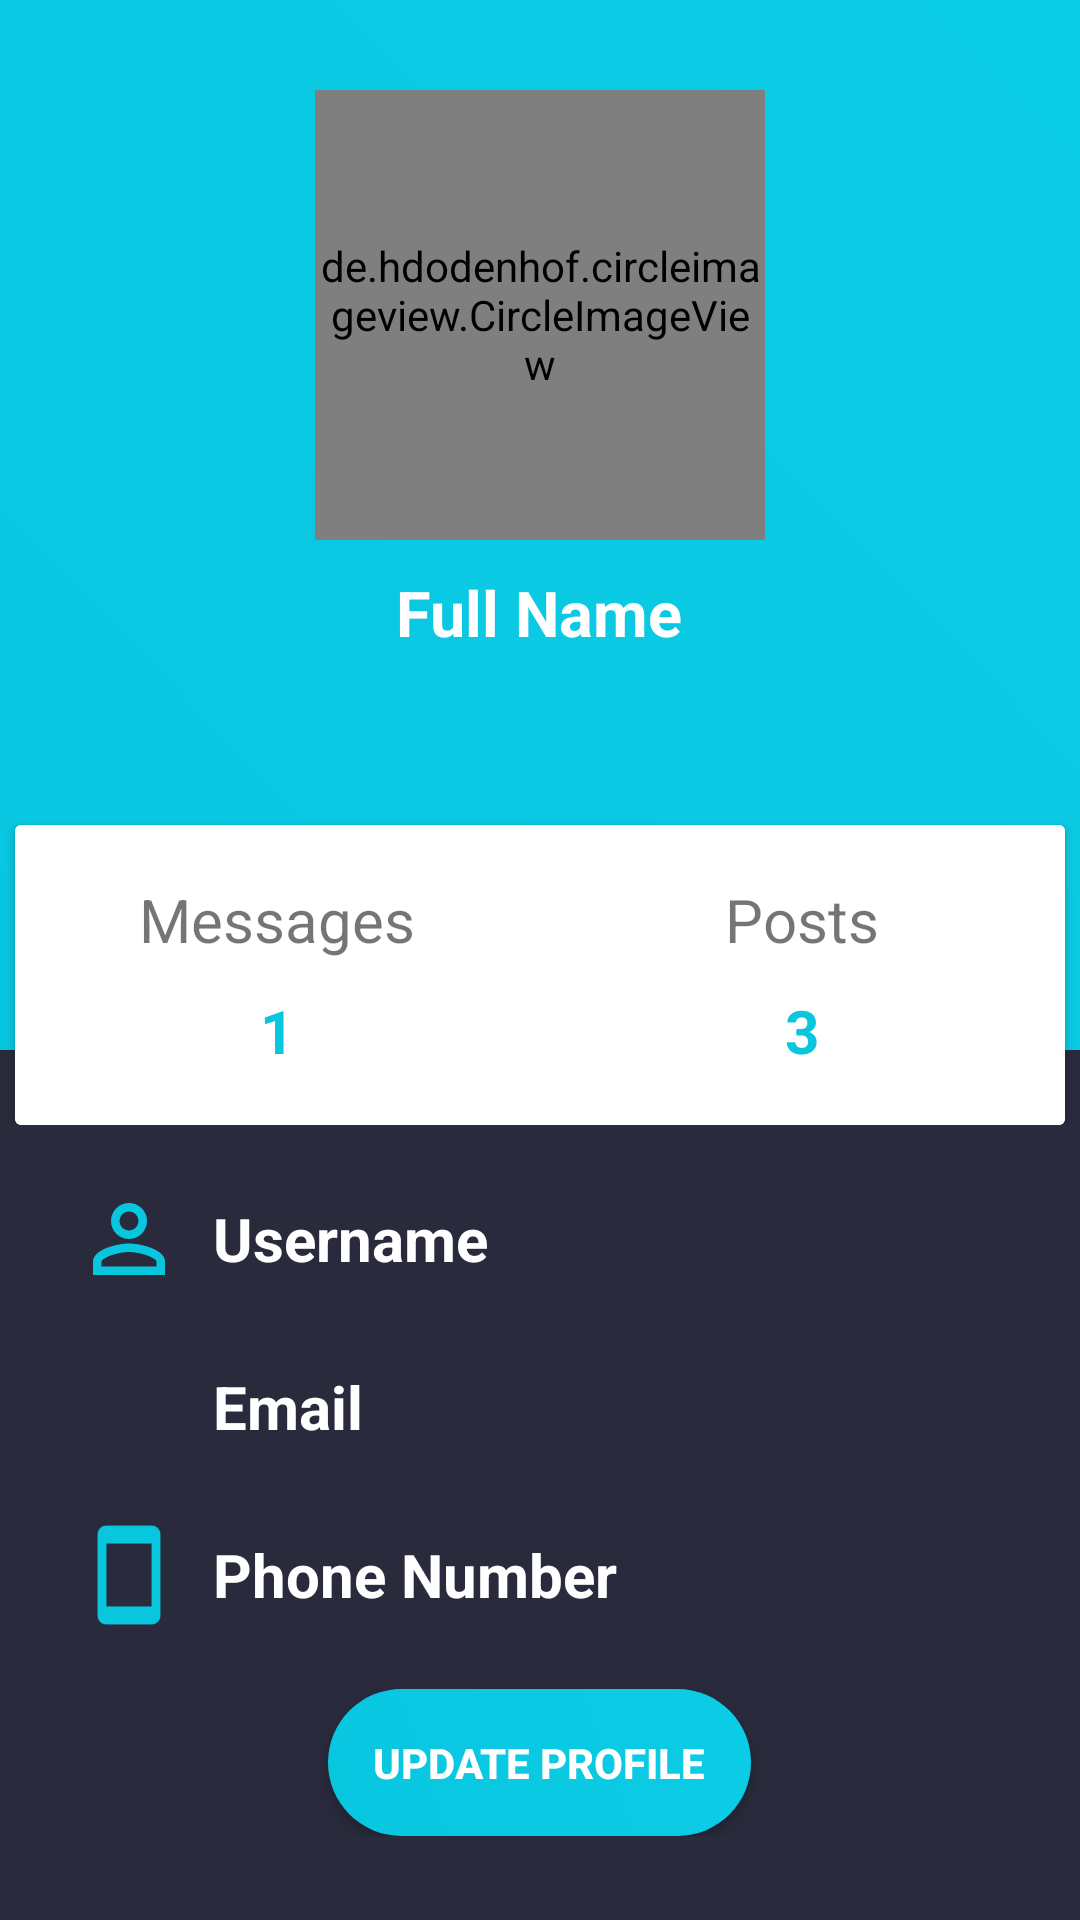

Screen size 1080 x 1920. Icon name, then its box in pixels as (x1, y1, x2, y2):
perm identity: (93, 1203, 165, 1275)
smartphone: (97, 1525, 161, 1625)
